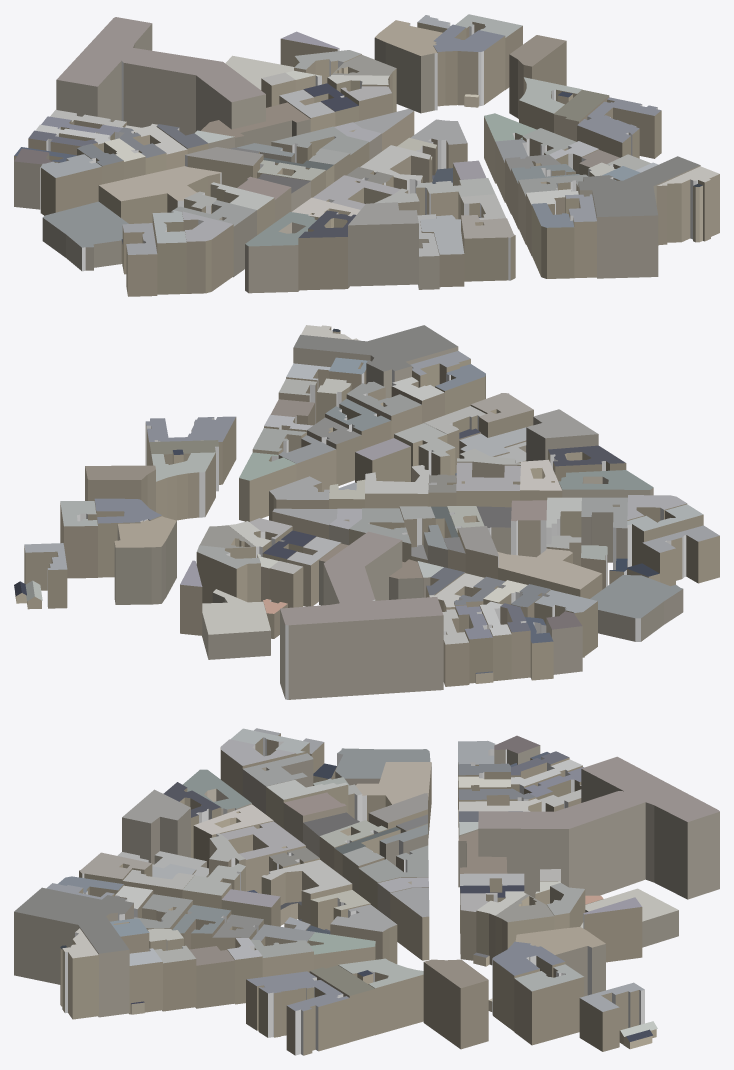
3 views of the same model, one above another, from view 1: azimuth 30°, elevation 25°; view 2: azimuth 150°, elevation 25°; view 3: azimuth 270°, elevation 25° (orthographic). The views are drawn at different scales.
Parts seen in each view (by area): view 1: tuile; view 2: tuile; view 3: tuile.
Part boxes in pixels (x1,y1,x2,y2): tuile: (14, 14, 719, 296); tuile: (14, 325, 719, 699); tuile: (14, 728, 719, 1055).
Bounding box in the file's own units: 279 × 37.6 × 295.
